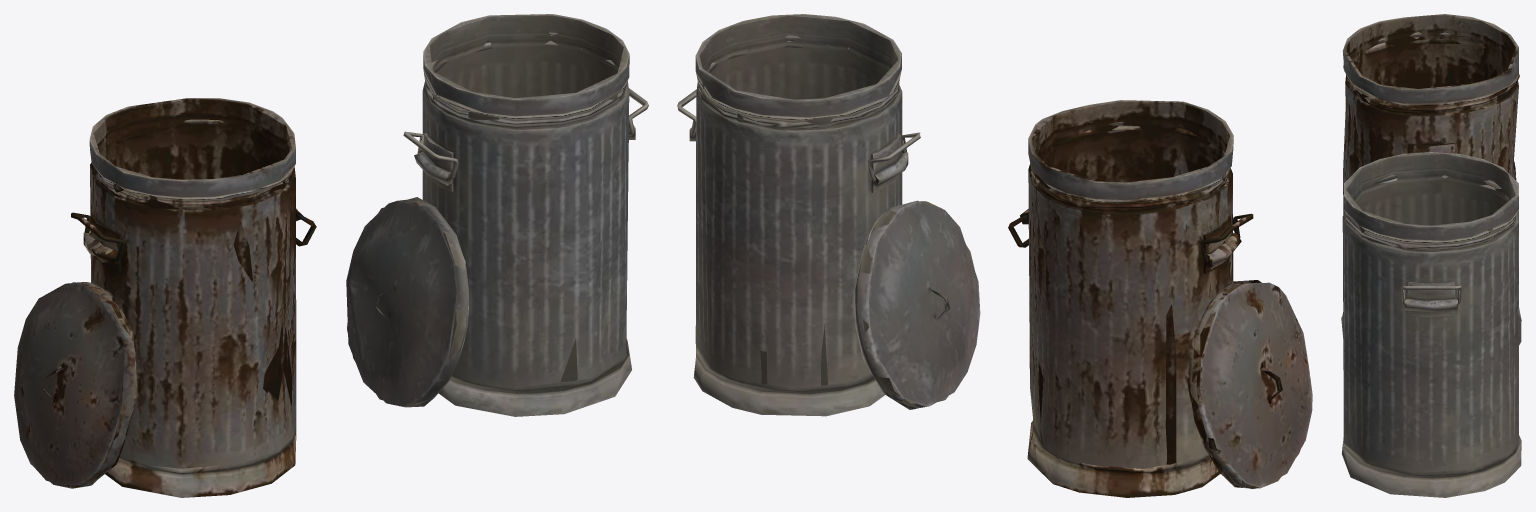
The model's file is bin.glb.
3 renders of one model, left to right at view 1: azimuth 30°, elevation 25°; view 2: azimuth 150°, elevation 25°; view 3: azimuth 270°, elevation 25°, orthographic. The views are drawn at different scales.
Visible parts, largest first — view 1: metal_trash_can, metal_trash_can_rust, metal_trash_can_lid, metal_trash_can_rust_lid; view 2: metal_trash_can, metal_trash_can_rust, metal_trash_can_lid, metal_trash_can_rust_lid; view 3: metal_trash_can, metal_trash_can_rust, metal_trash_can_handle_right.
Part boxes in pixels (left/top/right/bottom): metal_trash_can: left=414, top=14, right=635, bottom=416; metal_trash_can_rust: left=83, top=98, right=302, bottom=497; metal_trash_can_lid: left=346, top=197, right=469, bottom=407; metal_trash_can_rust_lid: left=14, top=282, right=137, bottom=488; metal_trash_can: left=689, top=14, right=908, bottom=416; metal_trash_can_rust: left=1020, top=100, right=1241, bottom=497; metal_trash_can_lid: left=854, top=200, right=980, bottom=409; metal_trash_can_rust_lid: left=1186, top=280, right=1312, bottom=488; metal_trash_can: left=1341, top=152, right=1521, bottom=497; metal_trash_can_rust: left=1342, top=14, right=1521, bottom=320; metal_trash_can_handle_right: left=1401, top=285, right=1461, bottom=304.
Size of the model in its own units: 1.86 by 0.95 by 0.5742.
2 materials, 2 textured.
